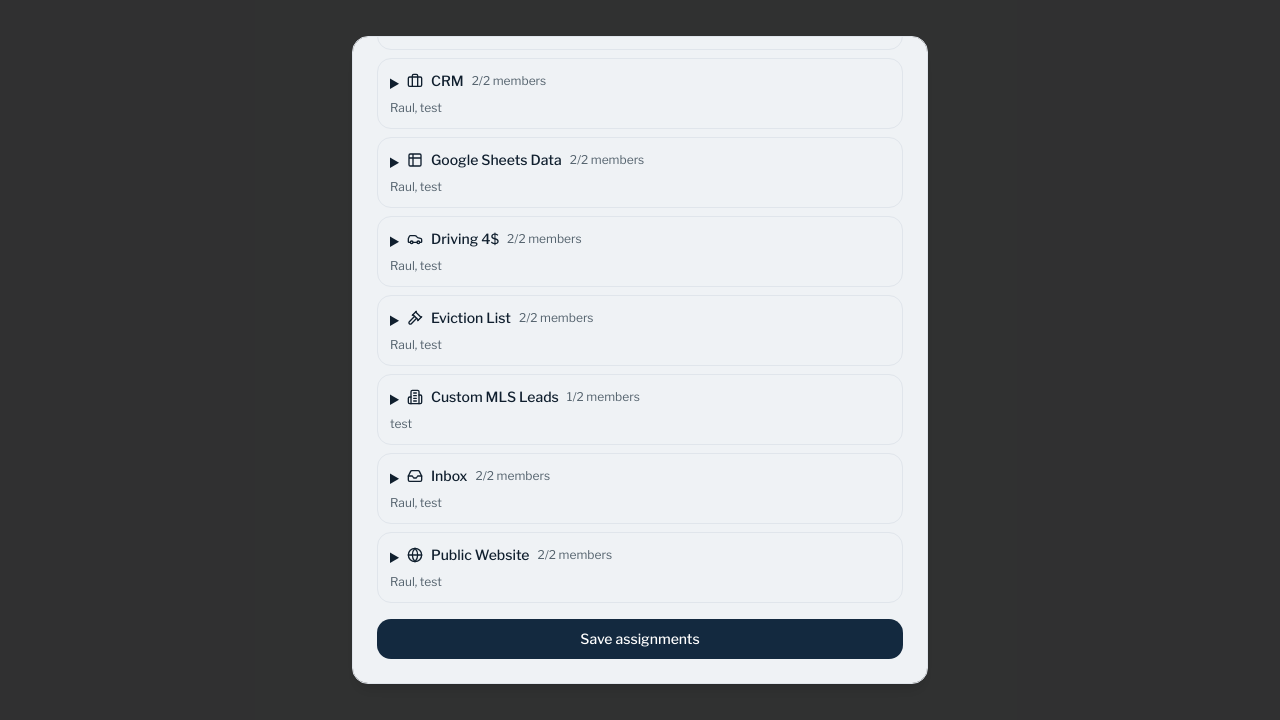
Manager Settings subscriptions › keeps the selection open and reports a failed save
(page scrolled)
Expected: the text "Custom MLS Leads" is shown, [431, 388, 559, 405]
Step 1. Click the button "Save assignments" → x=640, y=639, box [377, 619, 903, 659]
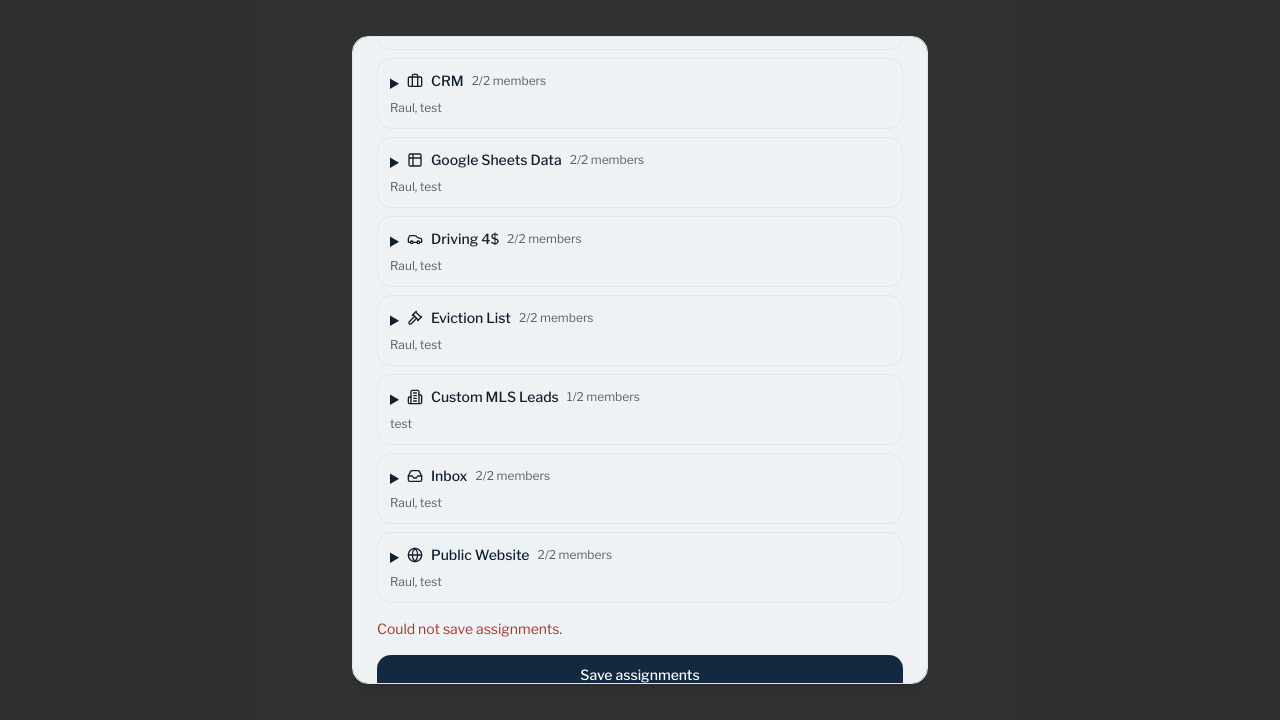
Expected: the message reads "Could not save assignments.", [377, 620, 562, 637]
